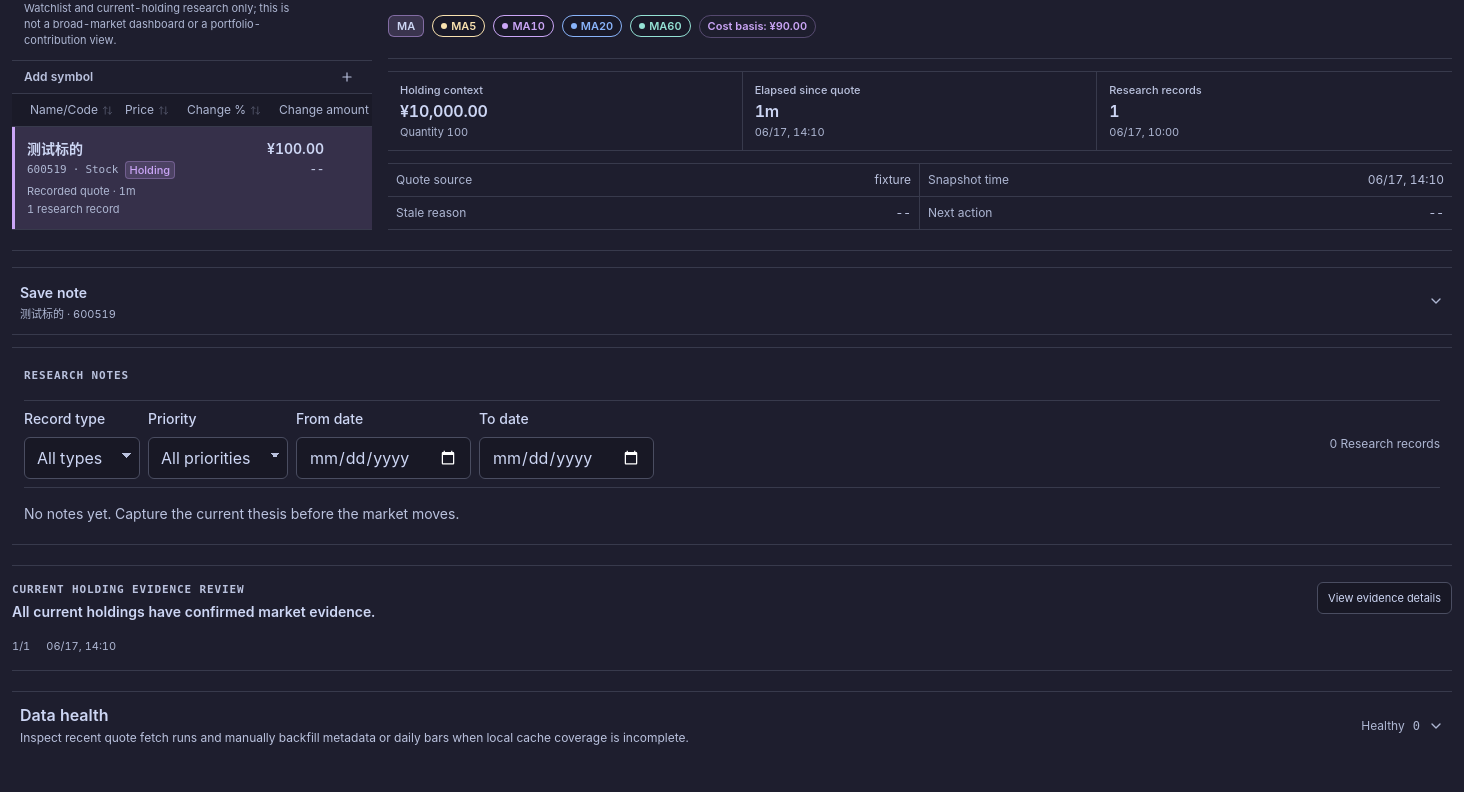
Test: shows managed daily-bar quality, revision rounds, and attempt budget in market evidence
The width and height of the screenshot is (1464, 792).
(page scrolled)
Click the heading that starts with "Data health".
click(64, 714)  # box [20,704,1444,744]
(page scrolled)
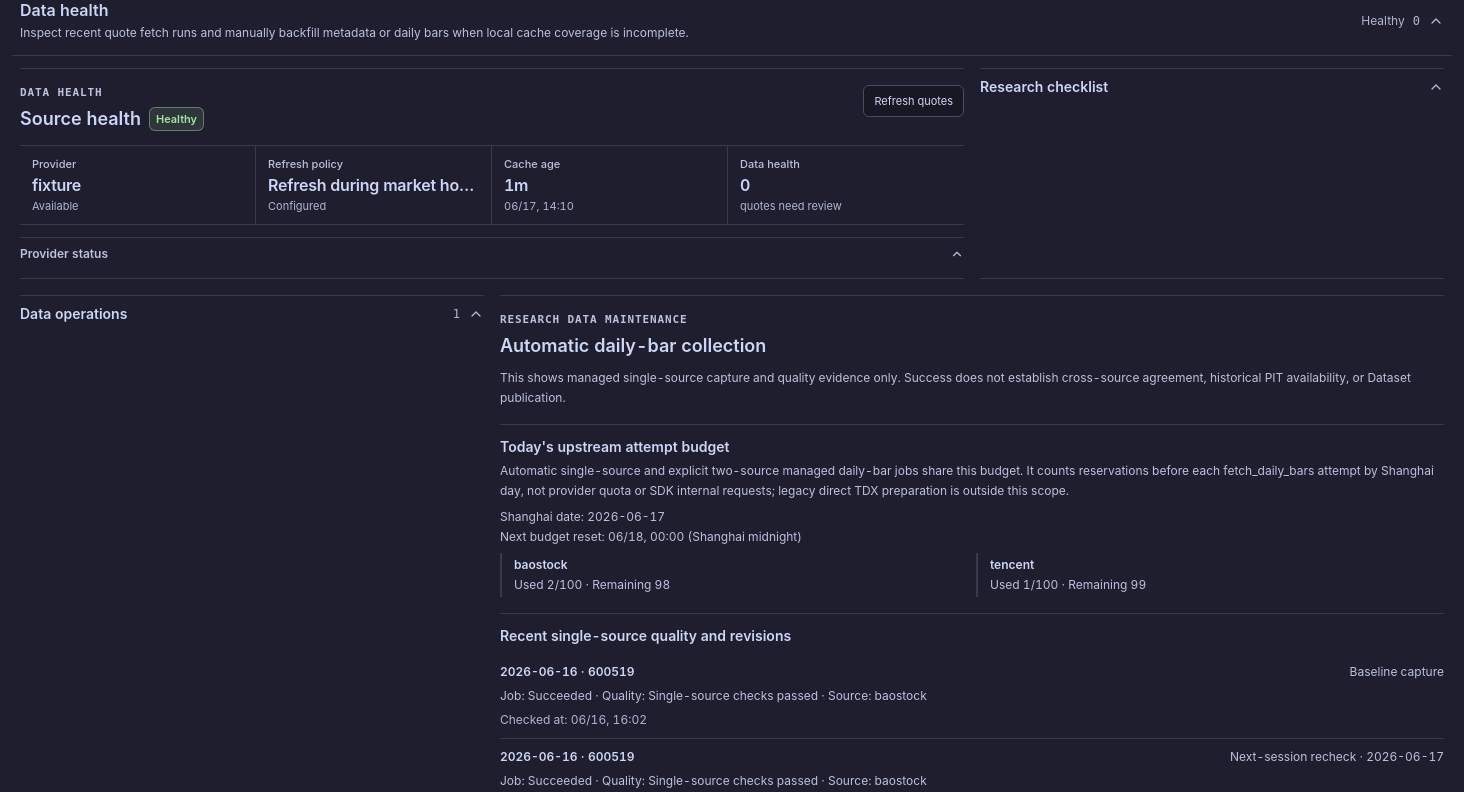
Expected: the text "Single-source checks passed" is shown 2 times, [500,688,927,702]; [500,772,927,788]
Expected: the text "Baseline capture" is shown 2 times
Expected: the text "Next-session recheck · 2026-06-17" is shown, [1230,746,1444,766]
